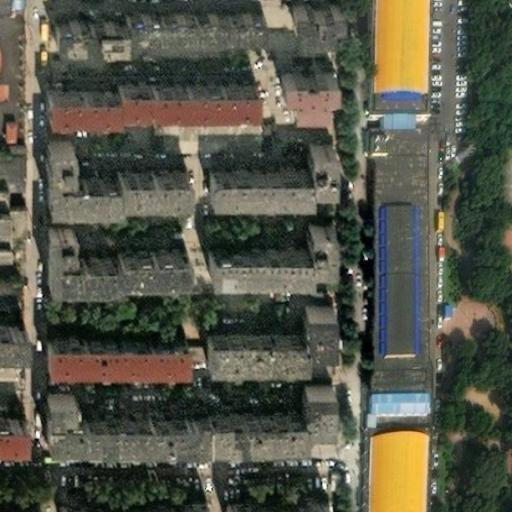building: (365, 120, 430, 512), (34, 378, 324, 435), (36, 129, 180, 192), (39, 216, 178, 271), (195, 297, 323, 354), (37, 73, 249, 107), (45, 0, 256, 32), (370, 0, 430, 105), (198, 217, 320, 268), (196, 139, 322, 188), (39, 325, 177, 354), (50, 495, 199, 512), (269, 65, 321, 101), (215, 495, 320, 512), (277, 0, 330, 28), (0, 146, 28, 188), (0, 418, 29, 454), (0, 325, 28, 359), (381, 105, 430, 120), (0, 276, 24, 296), (0, 205, 13, 235), (0, 241, 15, 260), (0, 112, 5, 133)
